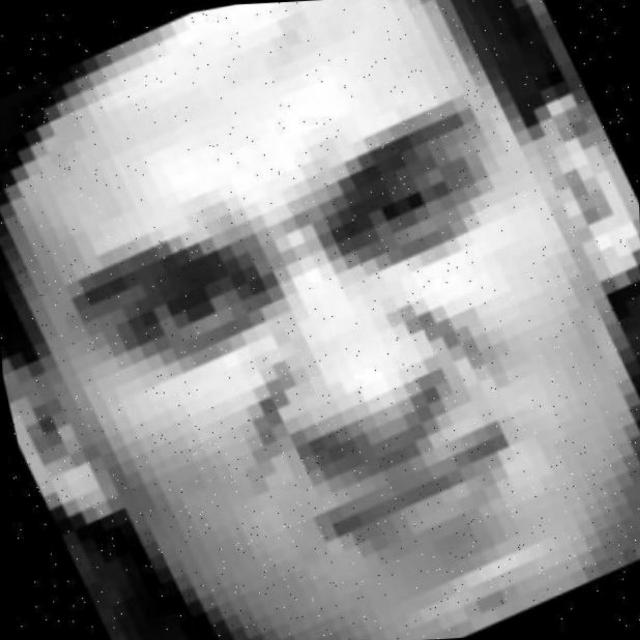Disgust: (5, 62, 639, 640)
